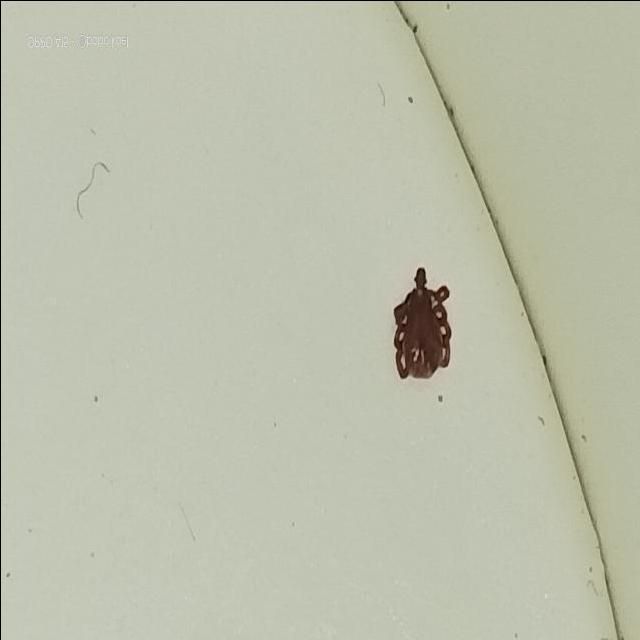Rhipicephalus Sanguineus-M: (391, 265, 453, 379)
